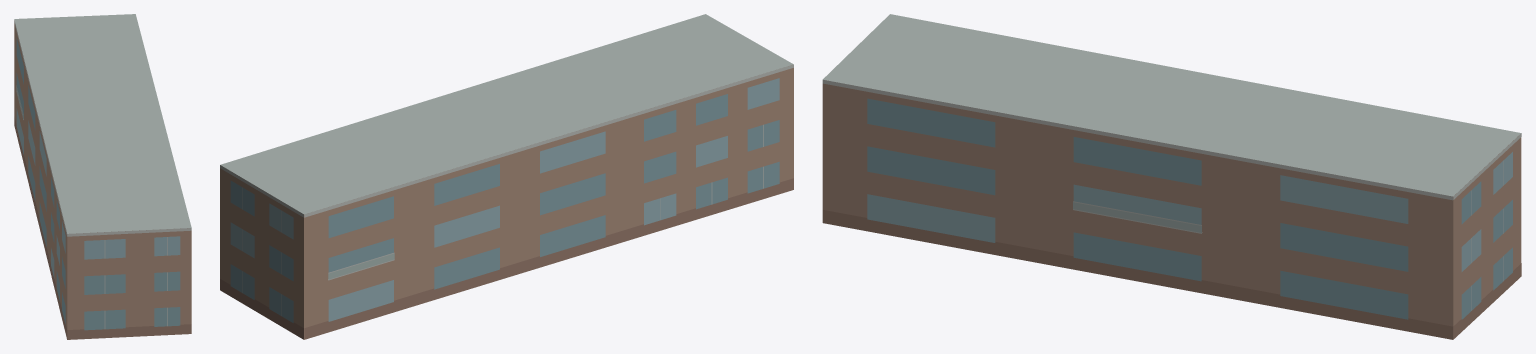
The model's file is survey-upis-32551557.glb.
The picture shows the model from 3 angles, left to right: view 1: azimuth 30°, elevation 25°; view 2: azimuth 150°, elevation 25°; view 3: azimuth 270°, elevation 25°; orthographic projection. The views are drawn at different scales.
Visible parts, largest first — view 1: survey-upis-32551557.tmp; view 2: survey-upis-32551557.tmp; view 3: survey-upis-32551557.tmp.
Part boxes in pixels (box(x1,y1,x2,y2)): survey-upis-32551557.tmp: box(14, 14, 191, 339); survey-upis-32551557.tmp: box(220, 14, 793, 339); survey-upis-32551557.tmp: box(822, 14, 1521, 339).
Bounding box in the file's own units: 24.99 × 9.15 × 40.43.
